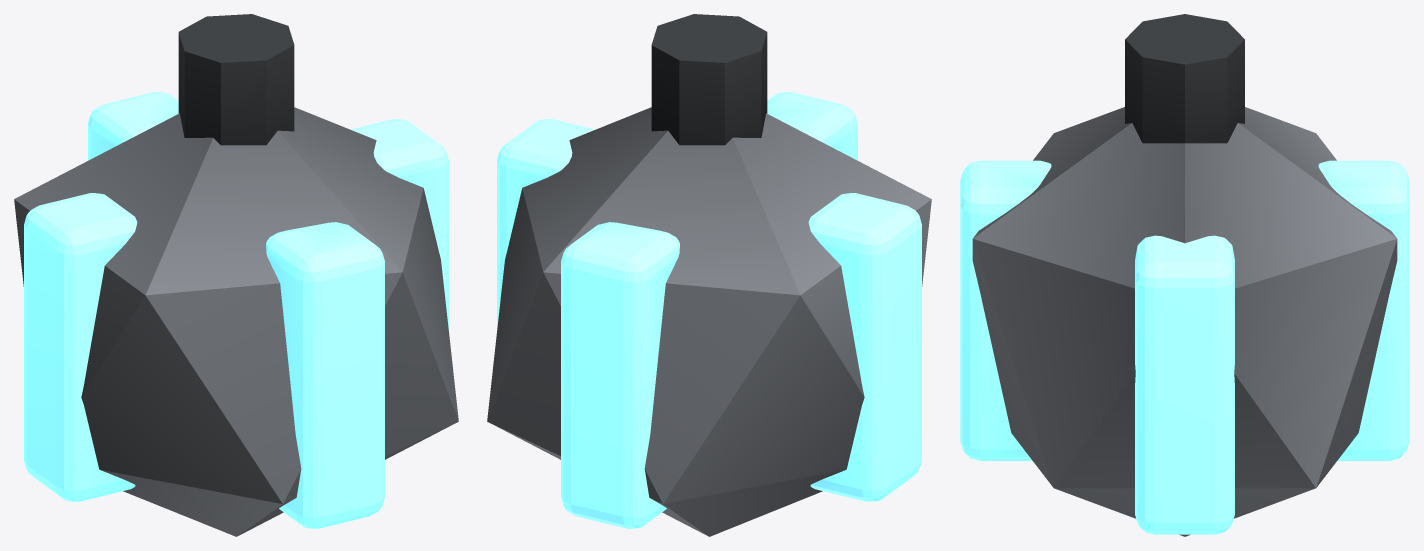
The model's file is flash_orb.glb.
3 renders of one model, left to right at view 1: azimuth 30°, elevation 25°; view 2: azimuth 150°, elevation 25°; view 3: azimuth 270°, elevation 25°, orthographic.
Visible parts, largest first — view 1: flash_orb; view 2: flash_orb; view 3: flash_orb.
Boxes of the visible parts, x1,y1,x2,y2 form: flash_orb: (14,14,458,536); flash_orb: (487,14,931,536); flash_orb: (960,14,1409,536).
Bounding box in the file's own units: 0.09 × 0.11 × 0.09.
